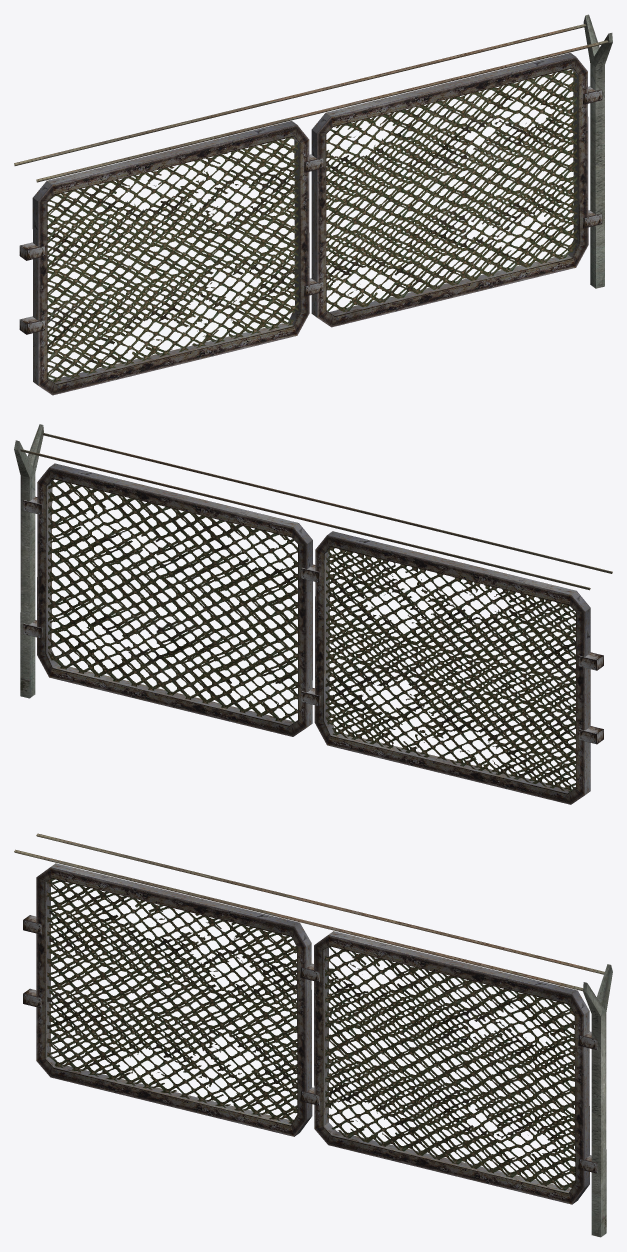
The model's file is tisiwang_a_02.fbx.
3 views of the same model, one above another, from view 1: azimuth 30°, elevation 25°; view 2: azimuth 150°, elevation 25°; view 3: azimuth 330°, elevation 25° (orthographic).
Parts seen in each view (by area): view 1: polySurface436; view 2: polySurface436; view 3: polySurface436.
Boxes of the visible parts, box(x1,y1,x2,y2) form: polySurface436: box(14, 14, 612, 395); polySurface436: box(14, 424, 612, 804); polySurface436: box(14, 833, 612, 1237).
Size of the model in its own units: 772 by 335 by 59.77.
1 material, 1 textured.
